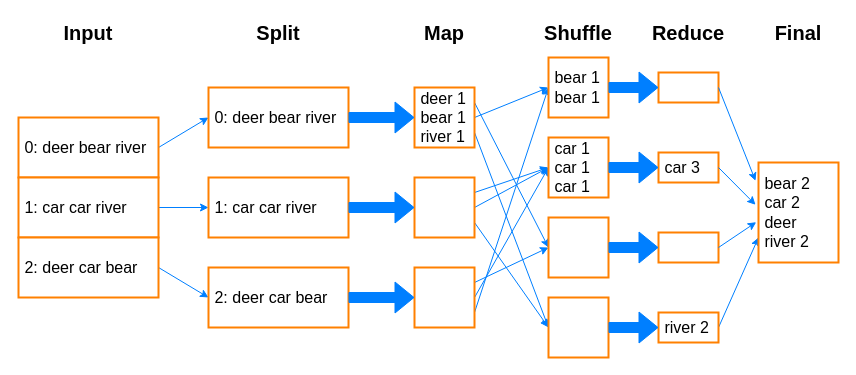
Some shapes in this 856 by 375 pixel diagram are drawn without their labels. Here are the shapes that lost their labels. From the top down, the centre of each, then its label:
At (688,87): "bear 2".
At (444,207): "car 1 car 1 river 1".
At (578,247): "deer 1 deer 1".
At (688,247): "deer 2".
At (444,297): "deer 1 car 1 bear 1".
At (578,327): "river 1 river 1".
